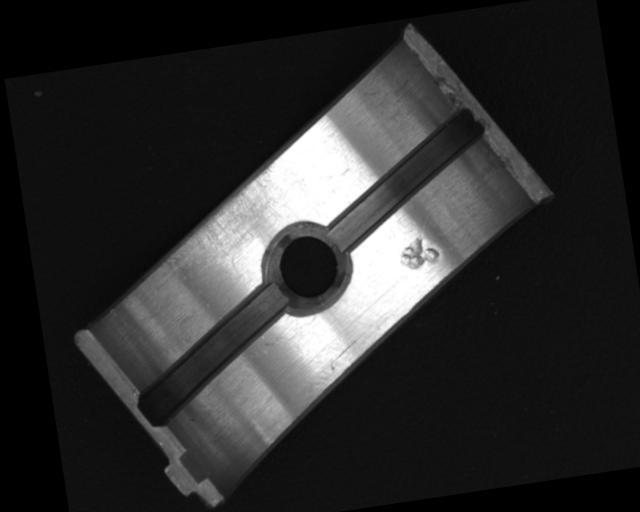bruise: (394, 230, 442, 273)
gap: (314, 106, 496, 254), (122, 280, 302, 425)
hole: (259, 217, 359, 319)
scratch: (143, 160, 291, 284)
